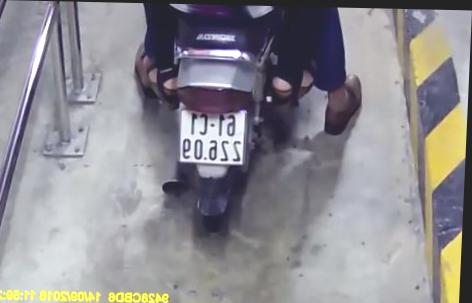License_Plate: (174, 102, 259, 173)
